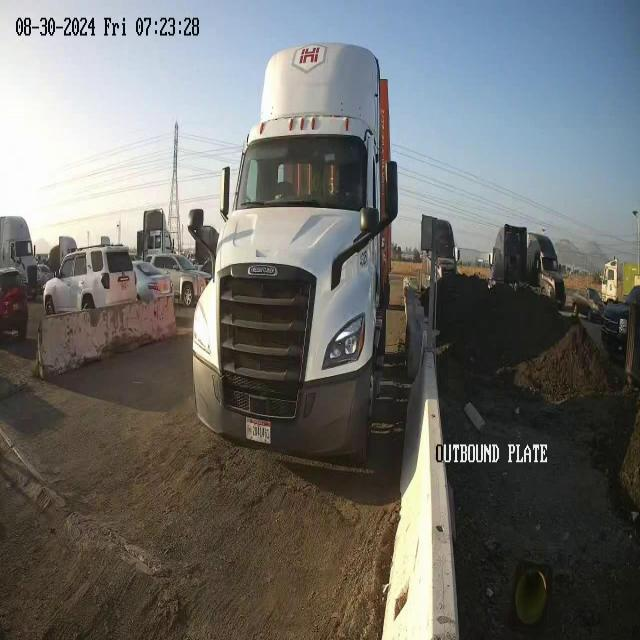TRUCK_OUT: (188, 41, 398, 466)
